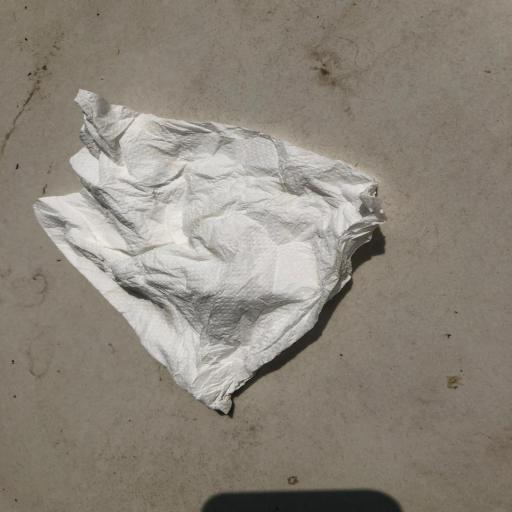waste: (24, 64, 400, 422)
